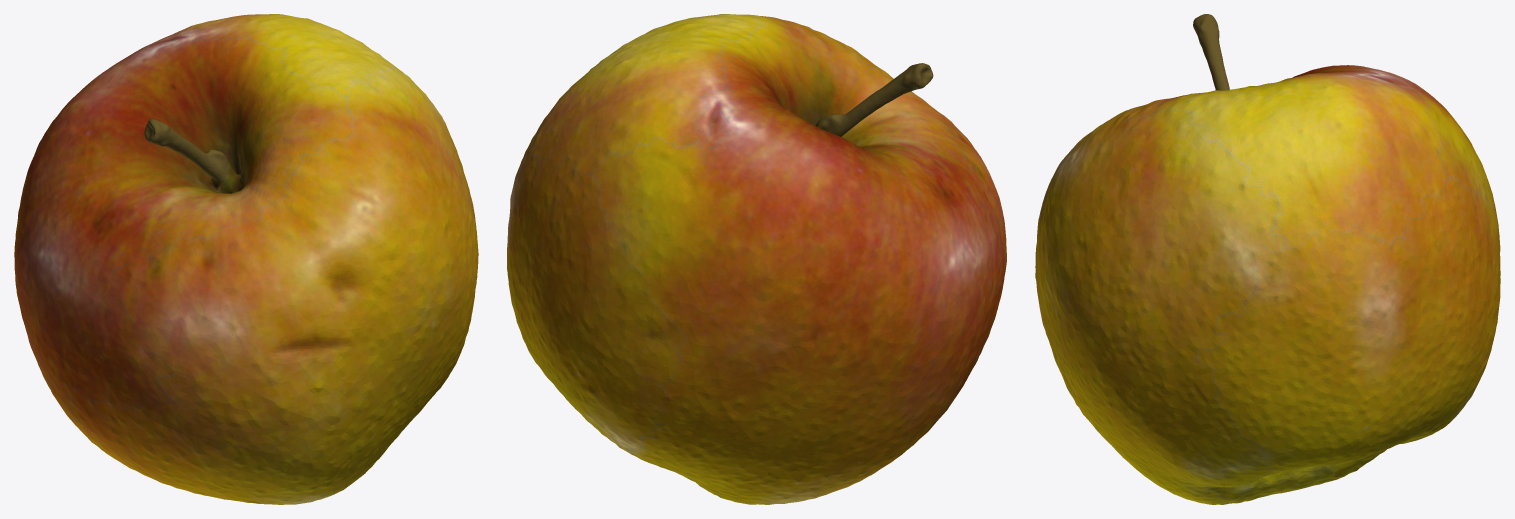
Rendered from 113954_apfelxyz-norm_-_exp-1.35.glb.
3 renders of one model, left to right at view 1: azimuth 30°, elevation 25°; view 2: azimuth 150°, elevation 25°; view 3: azimuth 270°, elevation 25°, orthographic. The views are drawn at different scales.
Visible parts, largest first — view 1: c28636c3-1eac-4960-8603-5b60ae3fdfd7; view 2: c28636c3-1eac-4960-8603-5b60ae3fdfd7; view 3: c28636c3-1eac-4960-8603-5b60ae3fdfd7.
Boxes of the visible parts, <box> form: c28636c3-1eac-4960-8603-5b60ae3fdfd7: <box>14,14,478,504</box>; c28636c3-1eac-4960-8603-5b60ae3fdfd7: <box>507,14,1006,504</box>; c28636c3-1eac-4960-8603-5b60ae3fdfd7: <box>1035,14,1500,504</box>.
Bounding box in the file's own units: 70.81 × 70.72 × 69.96.
1 material, 1 textured.
